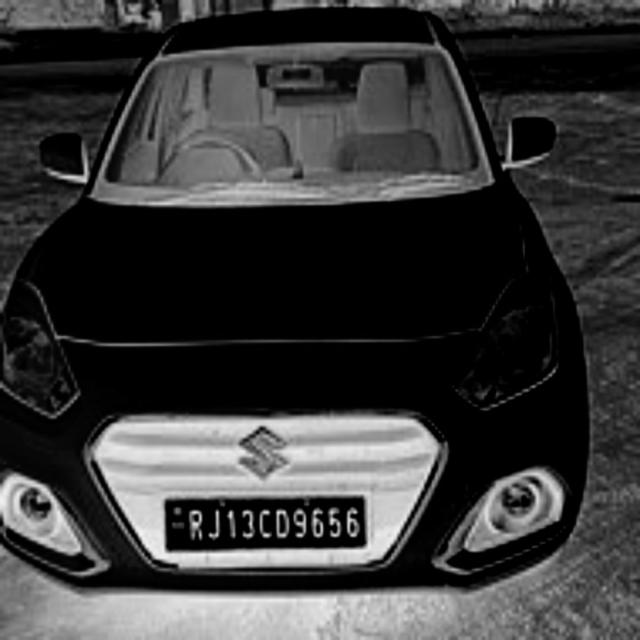1: (225, 508, 241, 540)
3: (240, 506, 258, 544)
5: (327, 502, 344, 540)
6: (310, 504, 326, 542), (346, 503, 362, 540)
9: (292, 508, 308, 541)
C: (258, 507, 274, 541)
D: (274, 507, 291, 544)
IND: (168, 503, 187, 535)
Indian_registered: (165, 498, 366, 551)
J: (209, 504, 224, 546)
R: (188, 509, 206, 545)
